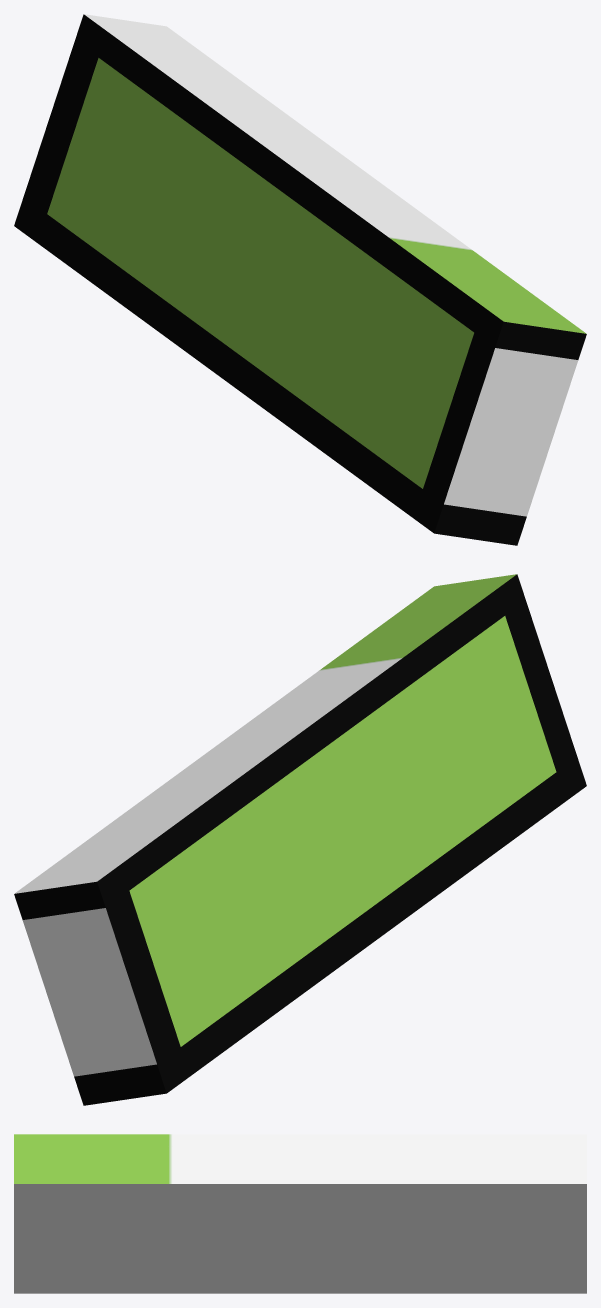
File: hokakuteki_behind.fbx
3 views of the same model, one above another, from view 1: azimuth 30°, elevation 25°; view 2: azimuth 150°, elevation 25°; view 3: azimuth 270°, elevation 25° (orthographic). The views are drawn at different scales.
Visible parts, largest first — view 1: 立方体.006; view 2: 立方体.006; view 3: 立方体.006.
Part boxes in pixels (x1,y1,x2,y2): 立方体.006: [14, 14, 586, 545]; 立方体.006: [14, 574, 586, 1105]; 立方体.006: [14, 1134, 586, 1293].
Size of the model in its own units: 271 by 56.88 by 80.91.
